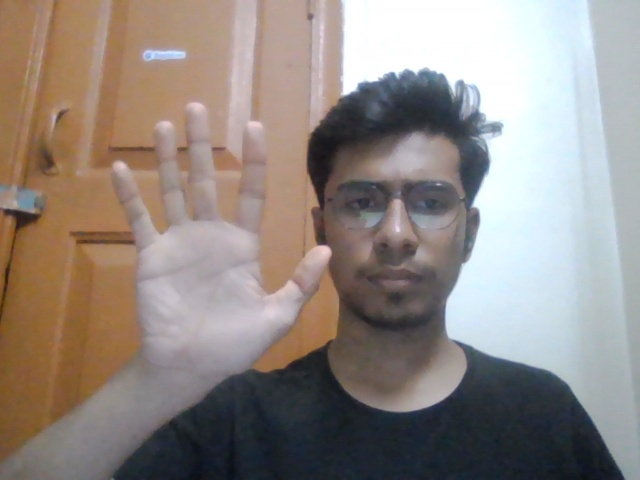Hello: (89, 91, 343, 376)
